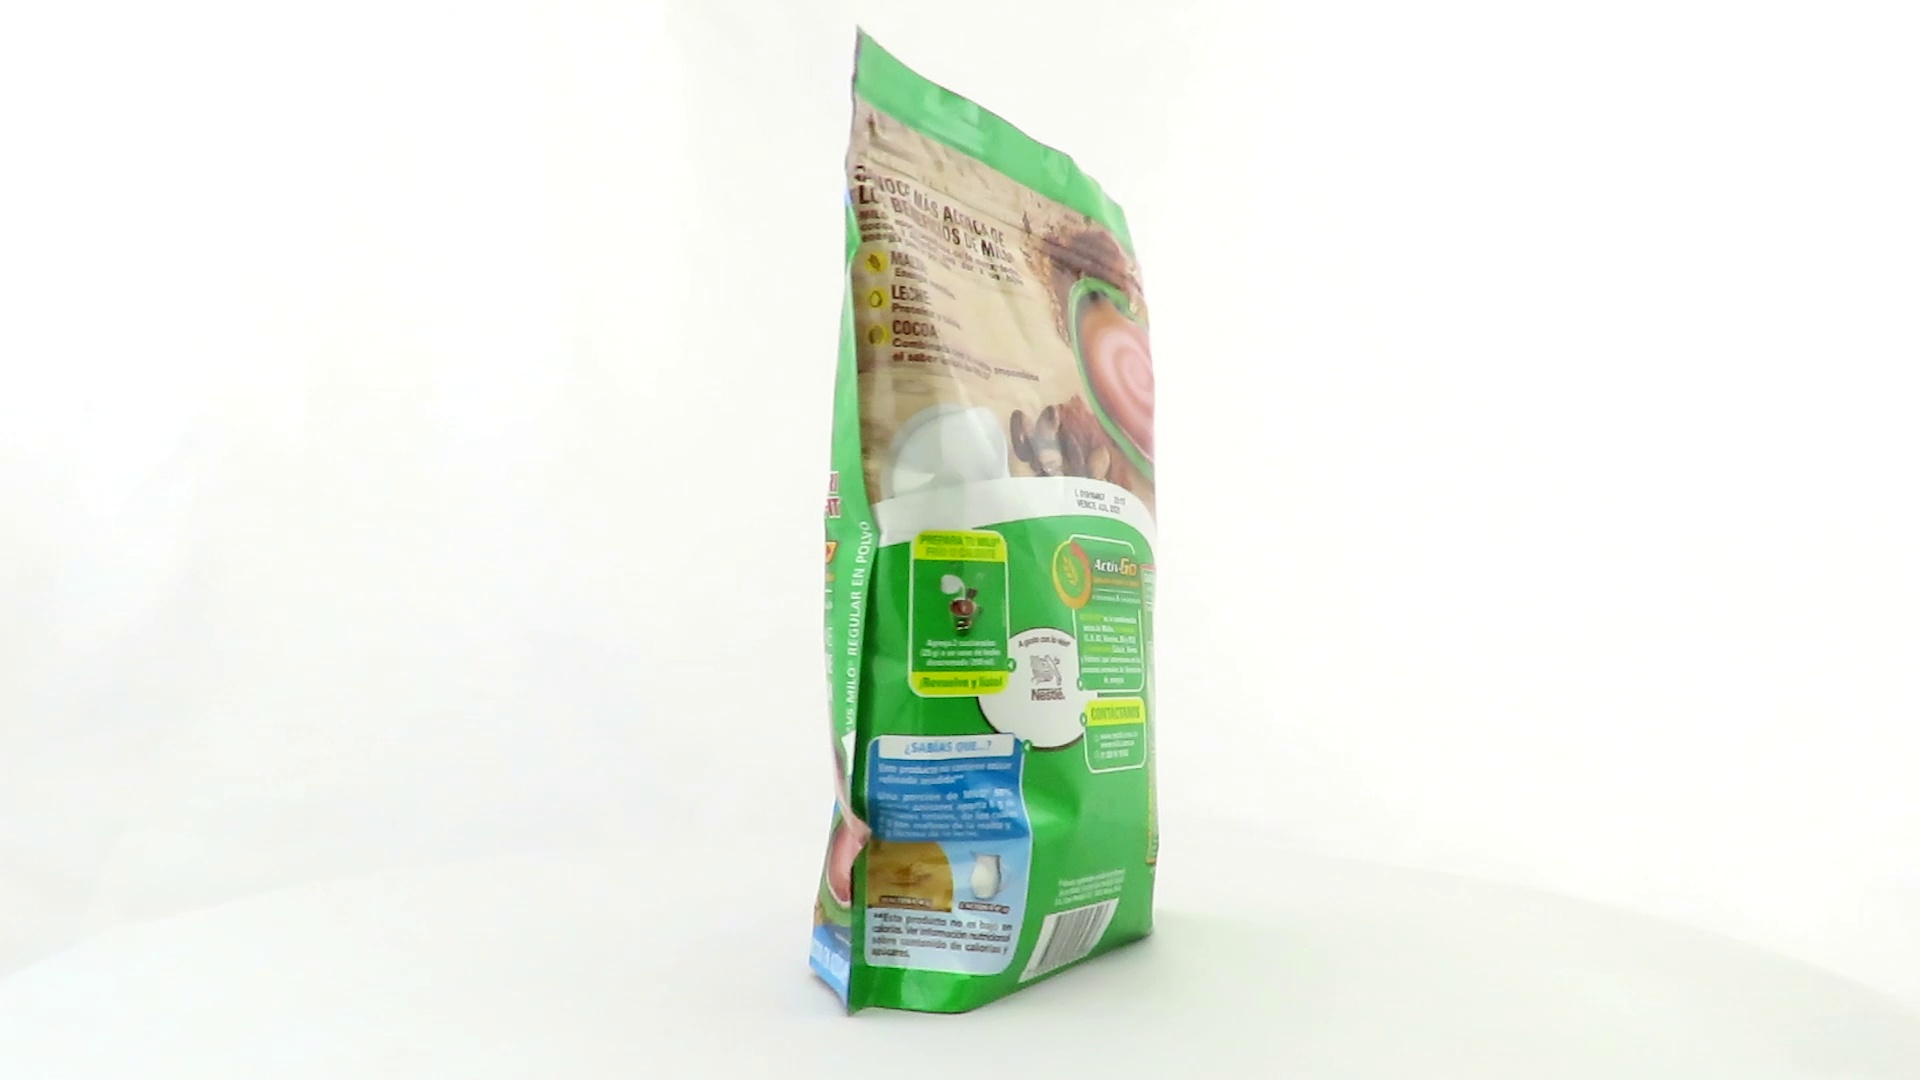COL0170205DYP50000: (804, 18, 1164, 1023)
